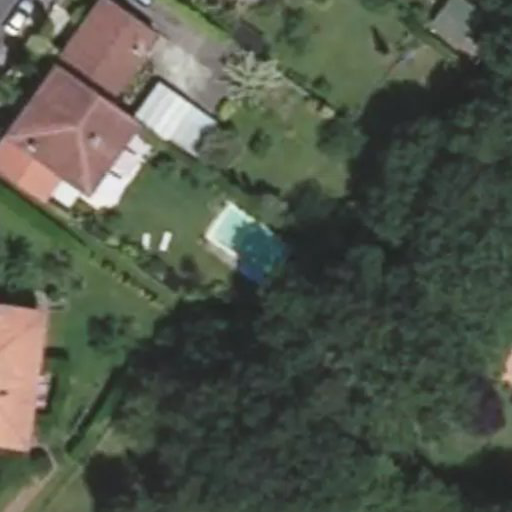pool: (214, 236, 297, 247)
